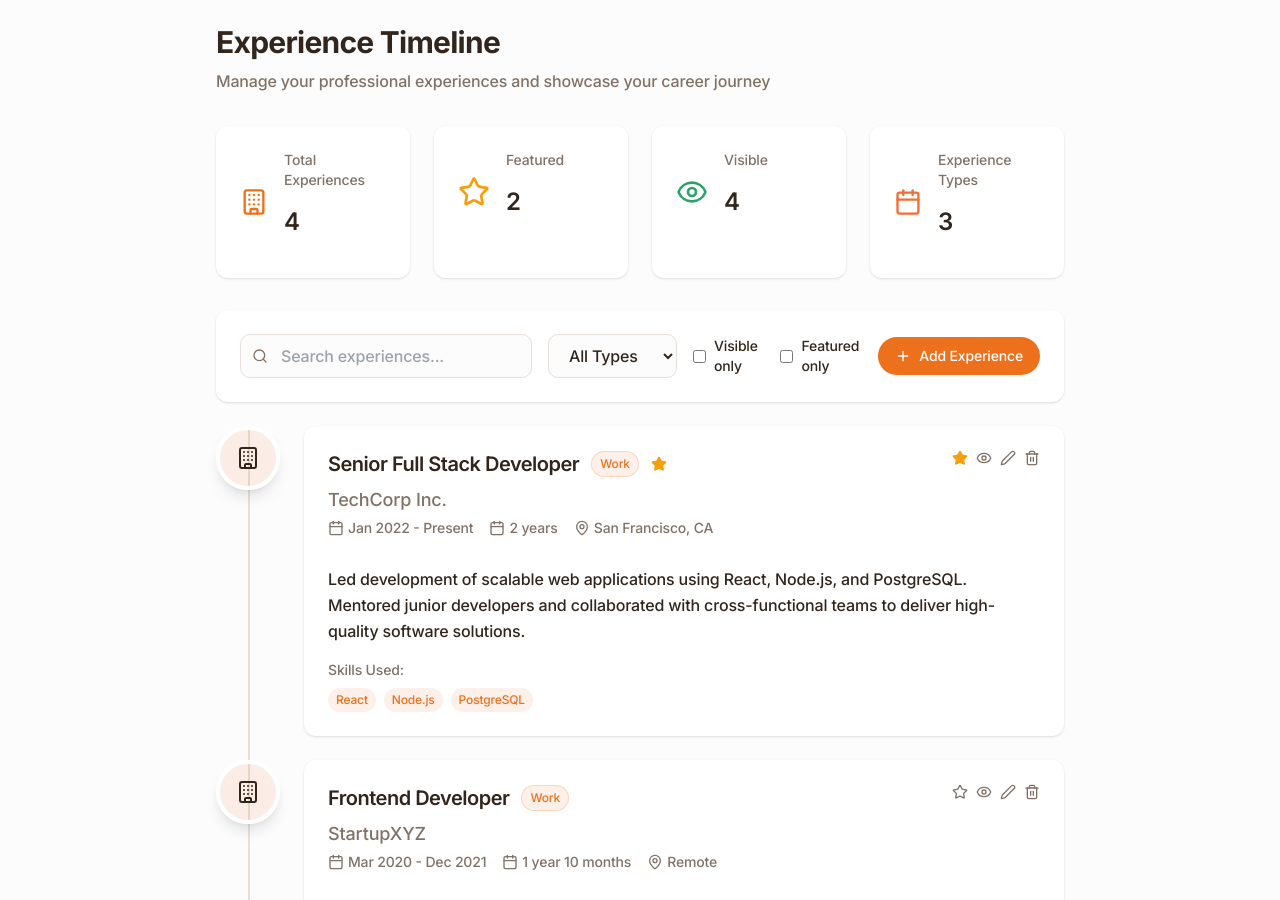
Test: ExperienceTimeline › Add Experience Modal › opens add modal when Add Experience button clicked
Click the button "Add Experience" at (959, 356), box 878,337 -> 1040,375
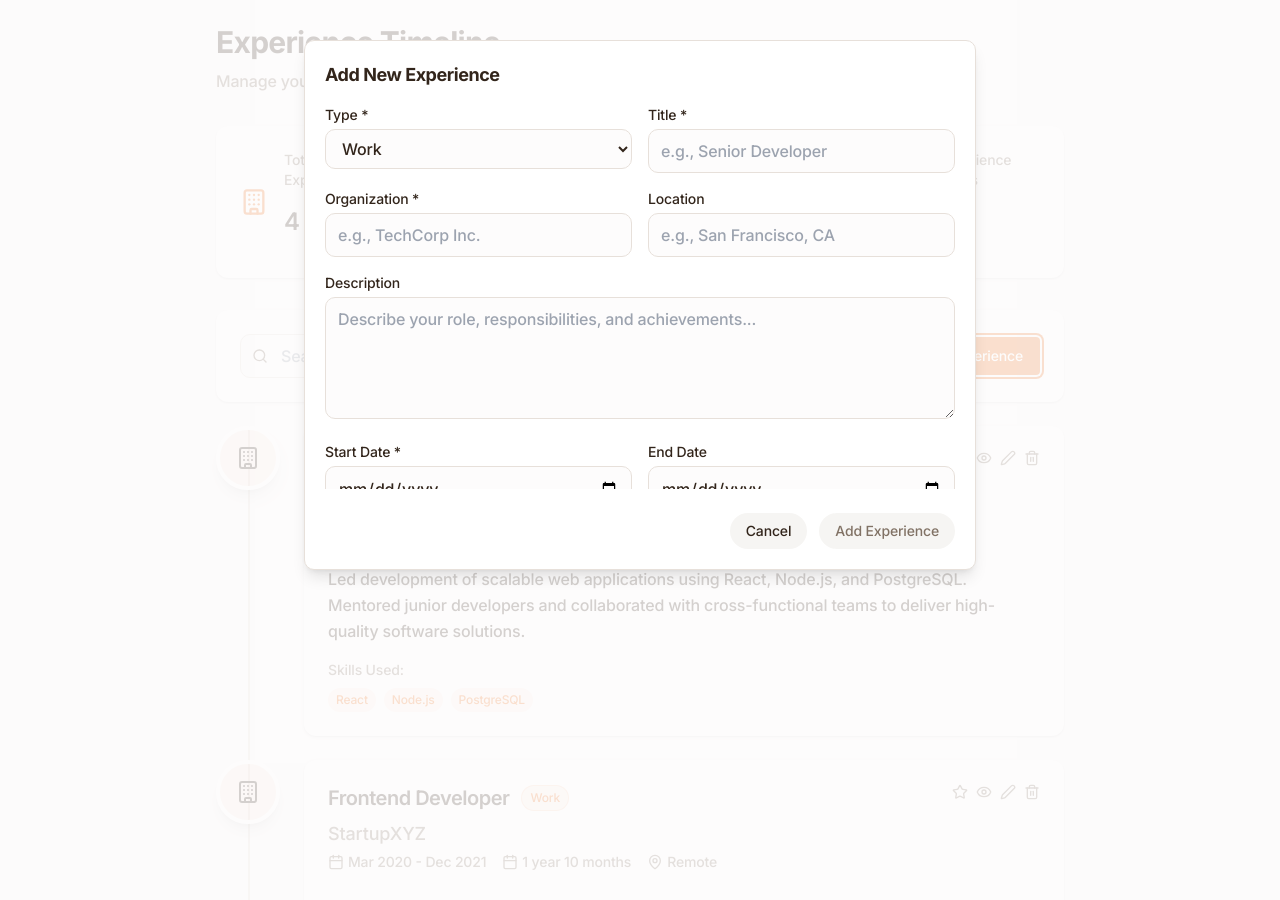
Check: the heading "Add New Experience" is shown, box 325,64 -> 500,85
